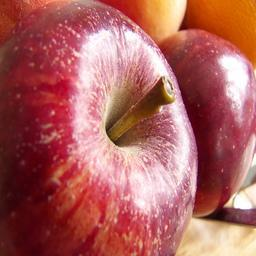apple: (1, 1, 198, 256), (154, 28, 256, 218)
